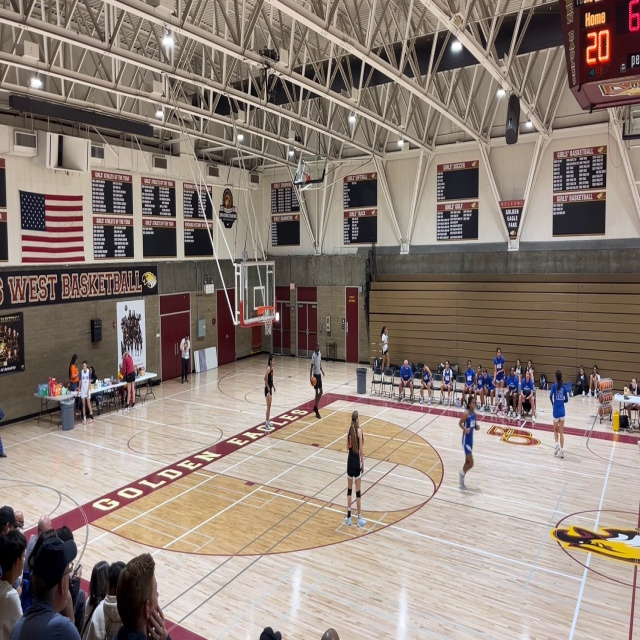Basketball: (310, 377, 317, 386)
